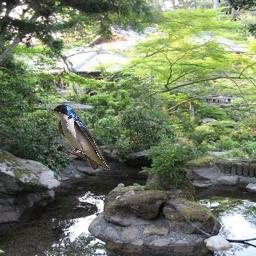Swallow: (50, 104, 110, 171)
